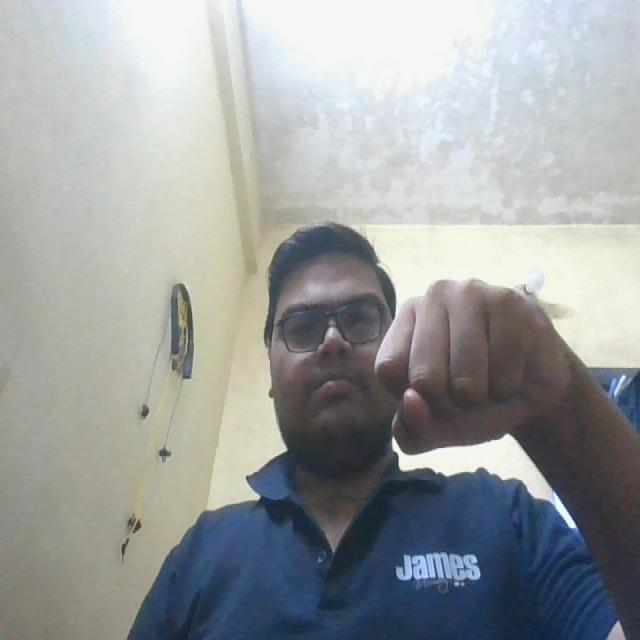Yes: (352, 250, 585, 480)
